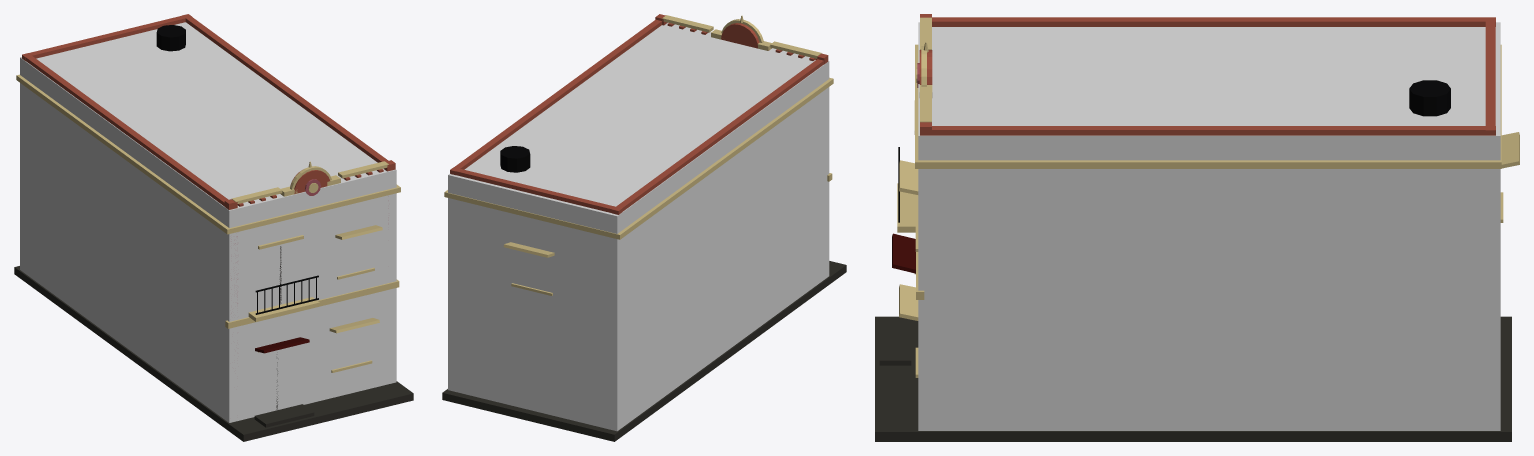
Rendered from CHN_008_inner_row.glb.
3 renders of one model, left to right at view 1: azimuth 30°, elevation 25°; view 2: azimuth 150°, elevation 25°; view 3: azimuth 270°, elevation 25°, orthographic. The views are drawn at different scales.
Visible parts, largest first — view 1: COL_Main, LOD0; view 2: COL_Main, LOD0; view 3: COL_Main, LOD0.
Boxes of the visible parts, box(x1,y1,x2,y2) form: COL_Main: box(20, 22, 396, 422); LOD0: box(14, 14, 413, 441); COL_Main: box(448, 22, 829, 431); LOD0: box(442, 14, 846, 441); COL_Main: box(918, 22, 1500, 430); LOD0: box(875, 14, 1519, 441).
Size of what is drawn, in the model's own units: 6.12 by 8.29 by 14.17.
